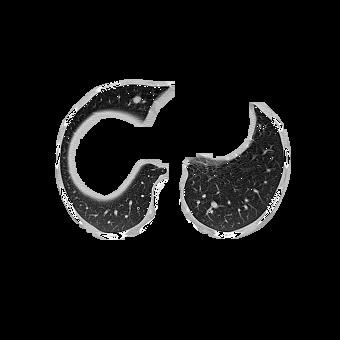PN: (133, 95, 141, 103)
